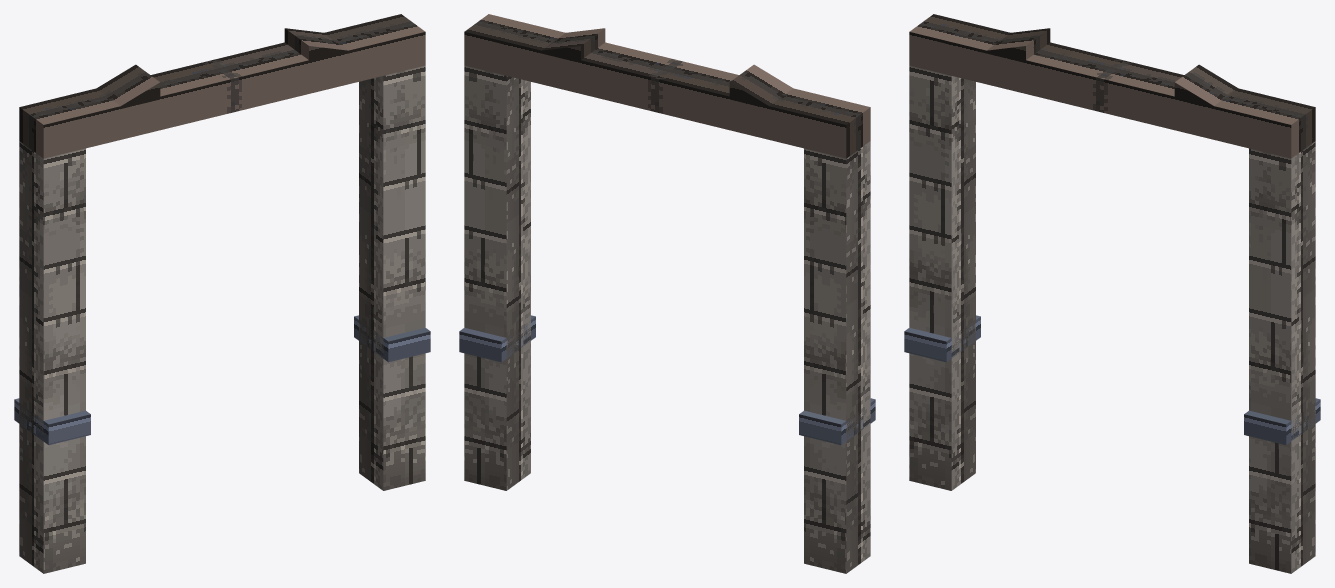
File: tp_ds_iron_door_arch.glb
3 views of the same model, side by side, from view 1: azimuth 30°, elevation 25°; view 2: azimuth 150°, elevation 25°; view 3: azimuth 330°, elevation 25° (orthographic).
Parts seen in each view (by area): view 1: ds_id_jamb_l, ds_id_jamb_r, ds_id_impost, ds_id_springer_l, ds_id_strap_l, ds_id_strap_r, ds_id_springer_r; view 2: ds_id_jamb_l, ds_id_jamb_r, ds_id_impost, ds_id_springer_l, ds_id_strap_r, ds_id_strap_l, ds_id_springer_r; view 3: ds_id_jamb_r, ds_id_jamb_l, ds_id_impost, ds_id_strap_l, ds_id_springer_r, ds_id_strap_r, ds_id_springer_l.
Boxes of the visible parts, x1=… form: ds_id_jamb_l: x1=19, y1=141, x2=85, y2=573; ds_id_jamb_r: x1=359, y1=65, x2=425, y2=490; ds_id_impost: x1=19, y1=14, x2=425, y2=158; ds_id_springer_l: x1=97, y1=64, x2=160, y2=120; ds_id_strap_l: x1=14, y1=398, x2=90, y2=444; ds_id_strap_r: x1=354, y1=315, x2=430, y2=362; ds_id_springer_r: x1=284, y1=28, x2=372, y2=59; ds_id_jamb_l: x1=804, y1=141, x2=870, y2=573; ds_id_jamb_r: x1=464, y1=65, x2=530, y2=490; ds_id_impost: x1=464, y1=14, x2=870, y2=158; ds_id_springer_l: x1=729, y1=64, x2=792, y2=118; ds_id_strap_r: x1=459, y1=315, x2=535, y2=362; ds_id_strap_l: x1=799, y1=398, x2=875, y2=444; ds_id_springer_r: x1=538, y1=28, x2=605, y2=68; ds_id_jamb_r: x1=1249, y1=141, x2=1315, y2=573; ds_id_jamb_l: x1=909, y1=65, x2=975, y2=490; ds_id_impost: x1=909, y1=14, x2=1315, y2=158; ds_id_strap_l: x1=904, y1=315, x2=980, y2=362; ds_id_springer_r: x1=1174, y1=64, x2=1237, y2=119; ds_id_strap_r: x1=1244, y1=398, x2=1320, y2=444; ds_id_springer_l: x1=966, y1=28, x2=1050, y2=68.
Bounding box in the file's own units: 3.08 × 3.57 × 0.48.
3 materials, 3 textured.
